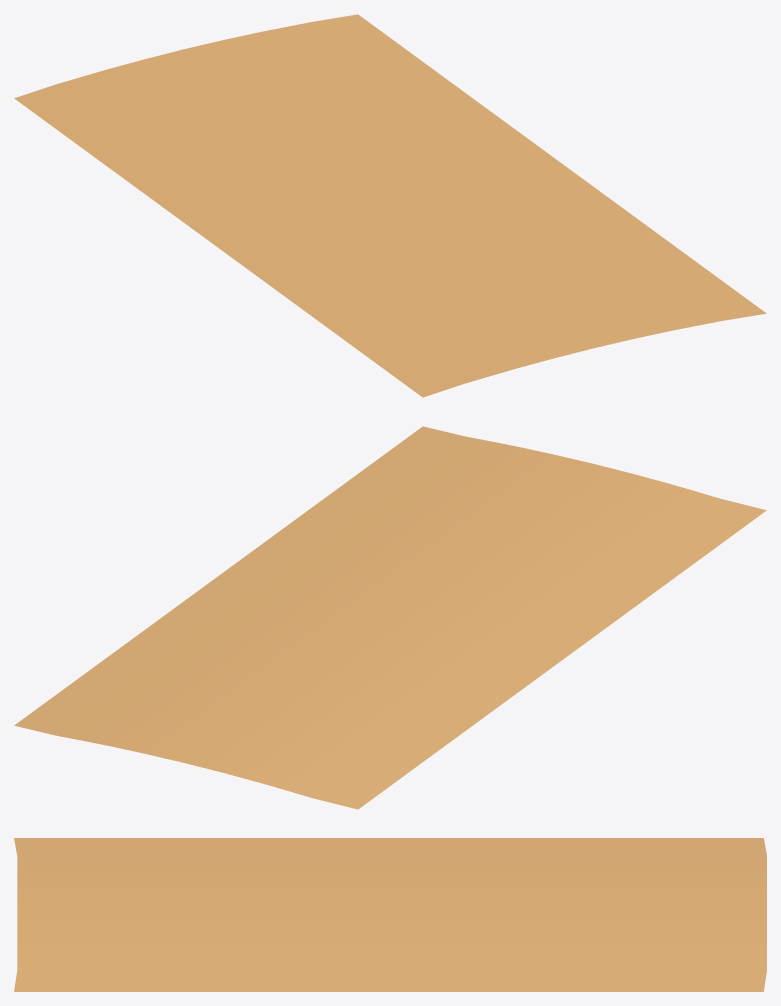
3 renders of one model, top to bottom at view 1: azimuth 30°, elevation 25°; view 2: azimuth 150°, elevation 25°; view 3: azimuth 270°, elevation 25°, orthographic. The views are drawn at different scales.
Visible parts, largest first — view 1: Cube.005; view 2: Cube.005; view 3: Cube.005.
Part boxes in pixels (bbox=[...]): Cube.005: bbox=[14, 14, 766, 397]; Cube.005: bbox=[14, 426, 766, 809]; Cube.005: bbox=[14, 838, 766, 991].
Bounding box in the file's own units: 97.19 × 1.59 × 201.
Materials: 1 (1 with a texture image).
